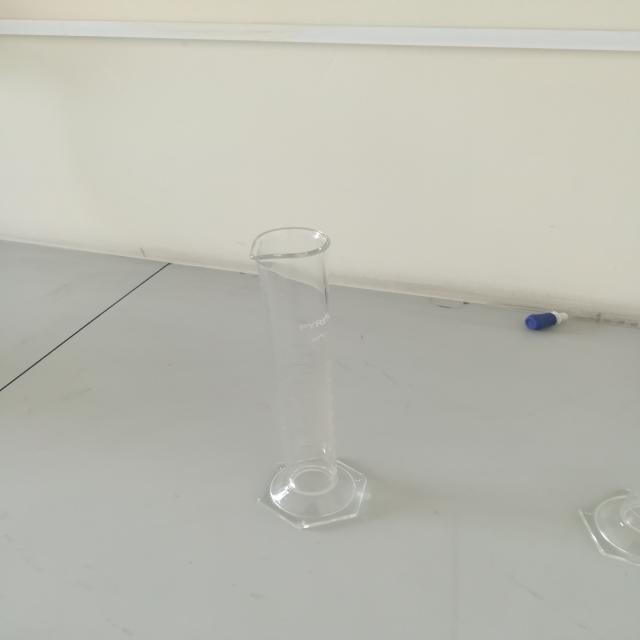Measuring_Cylinder: (185, 190, 416, 544)
